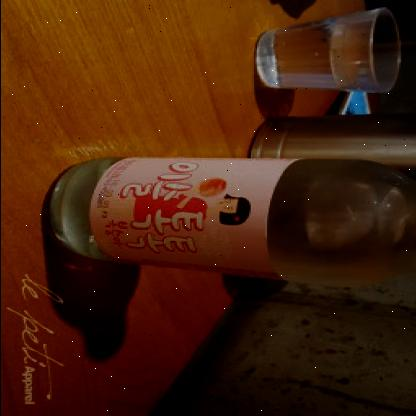Others: (254, 8, 400, 94)
Plastic Bottle: (47, 158, 416, 288)
